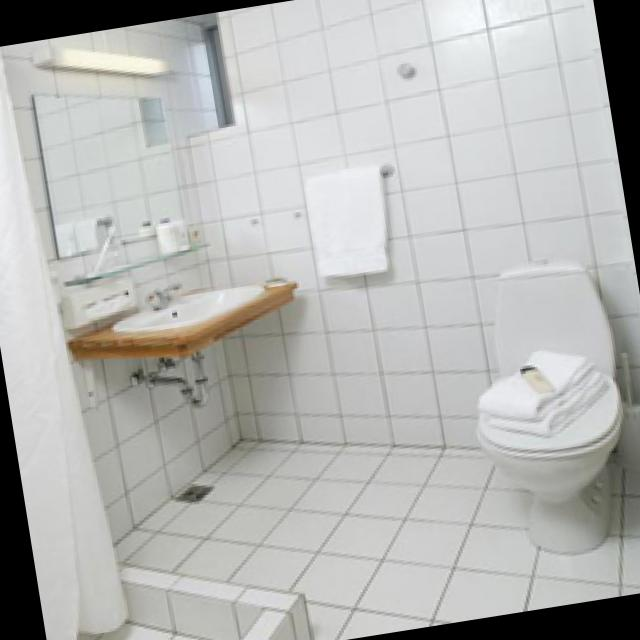2001: (189, 13, 233, 131)
bottle crop: (157, 218, 174, 248)
floor -X: (112, 434, 640, 636)
kleenex: (58, 274, 132, 325)
lamp crop: (26, 42, 169, 73)
mirror crop: (25, 88, 181, 254)
pipe: (129, 349, 206, 406)
shelf crop: (58, 240, 206, 285)
shower crop: (76, 560, 312, 640)
shower door handle: (0, 55, 126, 640)
sink basin: (62, 279, 293, 357)
sink occluded: (143, 286, 170, 312)
toilet bowl: (476, 251, 620, 554)
toilet brush: (613, 348, 640, 480)
toothbrush: (84, 221, 116, 270)
towel basket: (297, 162, 385, 275), (469, 348, 593, 415), (481, 372, 608, 433)
towel ring: (380, 159, 393, 174)
towels: (476, 347, 604, 434)
tube: (515, 358, 556, 392)
